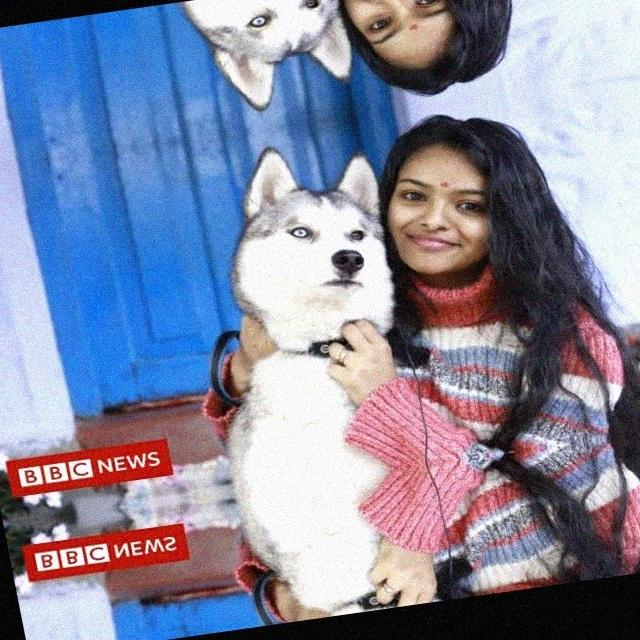dog: (208, 127, 408, 354), (180, 0, 363, 125), (300, 594, 460, 620)
